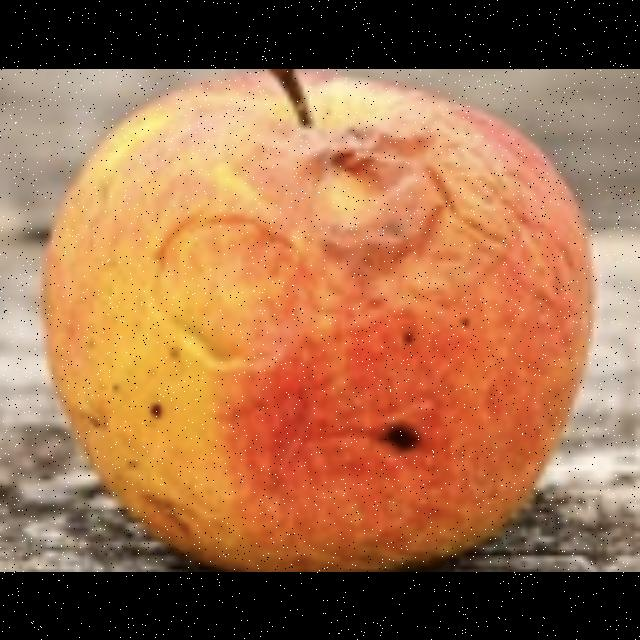Apel Tidak Segar: (36, 69, 598, 572)
